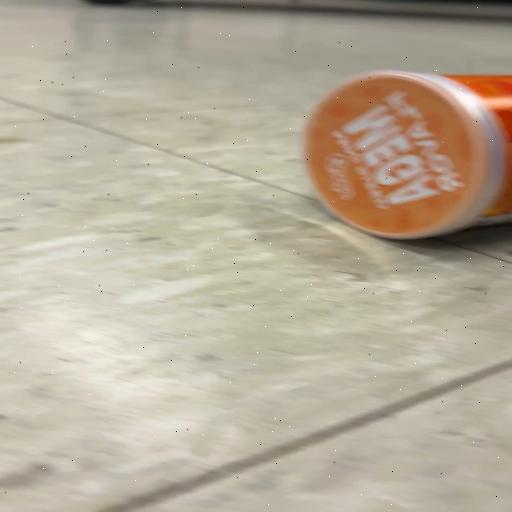pringles: (304, 72, 511, 239)
